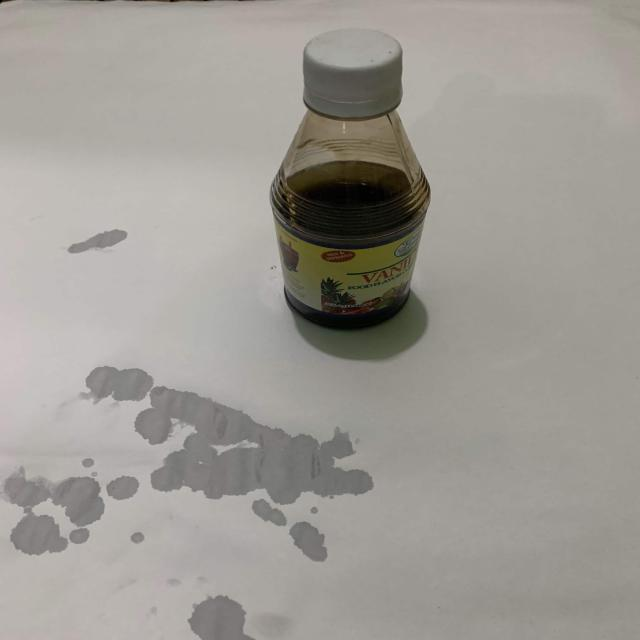bottle: (262, 25, 440, 338)
